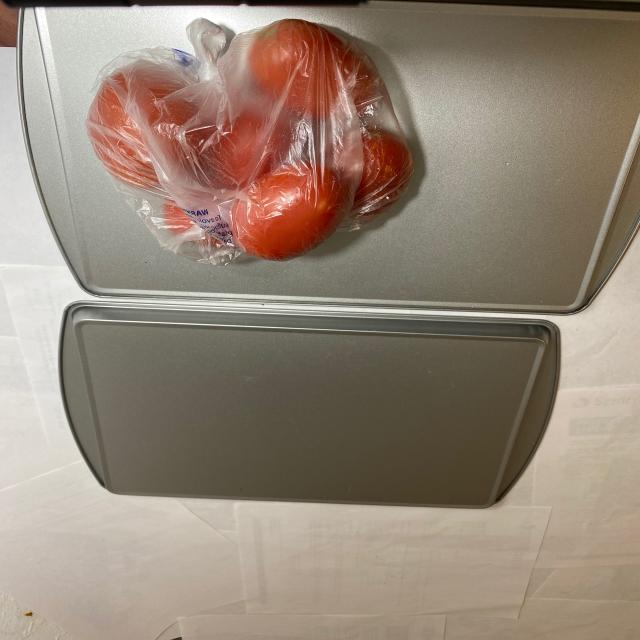tomato: (91, 27, 413, 270)
